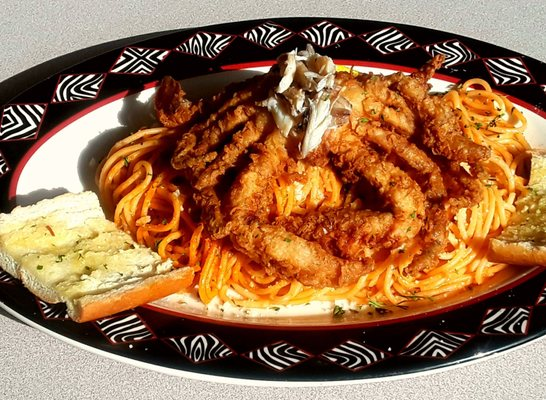burger: (483, 56, 546, 118)
